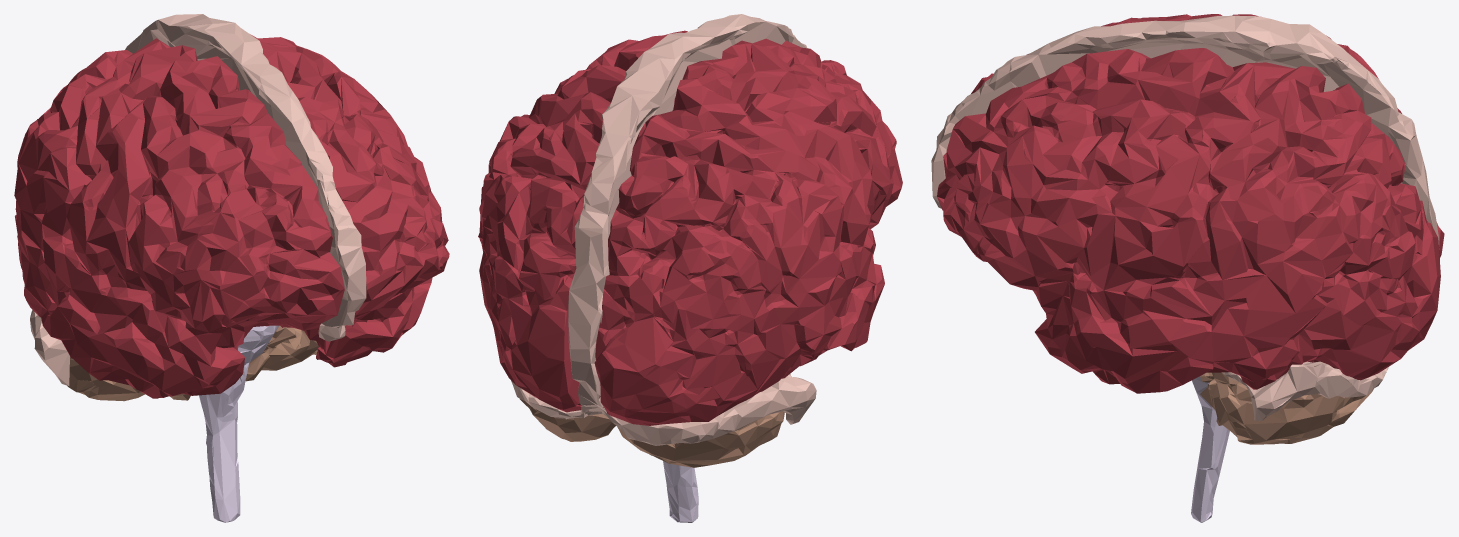
Rendered from Brain_withtextures.gltf.
3 renders of one model, left to right at view 1: azimuth 30°, elevation 25°; view 2: azimuth 150°, elevation 25°; view 3: azimuth 270°, elevation 25°, orthographic. The views are drawn at different scales.
Visible parts, largest first — view 1: CortexRight, CortexLeft, FalxTentorium, BrainStem, CerebellumGrey; view 2: CortexRight, CortexLeft, FalxTentorium, CerebellumGrey, BrainStem; view 3: CortexLeft, FalxTentorium, CerebellumGrey, BrainStem, CortexRight.
Boxes of the visible parts, left/top/right/bottom form: CortexRight: left=14, top=38, right=344, bottom=398; CortexLeft: left=250, top=34, right=449, bottom=367; FalxTentorium: left=30, top=14, right=366, bottom=385; BrainStem: left=199, top=325, right=278, bottom=522; CerebellumGrey: left=67, top=325, right=318, bottom=401; CortexRight: left=594, top=38, right=902, bottom=425; CortexLeft: left=478, top=30, right=687, bottom=412; FalxTentorium: left=511, top=14, right=816, bottom=445; CerebellumGrey: left=520, top=399, right=784, bottom=467; BrainStem: left=663, top=461, right=698, bottom=522; CortexLeft: left=937, top=48, right=1440, bottom=393; FalxTentorium: left=931, top=15, right=1439, bottom=421; CerebellumGrey: left=1200, top=372, right=1373, bottom=444; BrainStem: left=1191, top=376, right=1229, bottom=522; CortexRight: left=971, top=14, right=1444, bottom=259.
Bounding box in the file's own units: 1.43 × 1.86 × 1.73.
